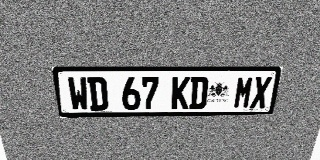6: (121, 77, 141, 110)
7: (141, 77, 159, 110)
D: (87, 77, 108, 111), (189, 76, 209, 109)
K: (171, 77, 190, 110)
M: (233, 76, 255, 109)
W: (67, 77, 90, 111)
X: (250, 76, 272, 108)
